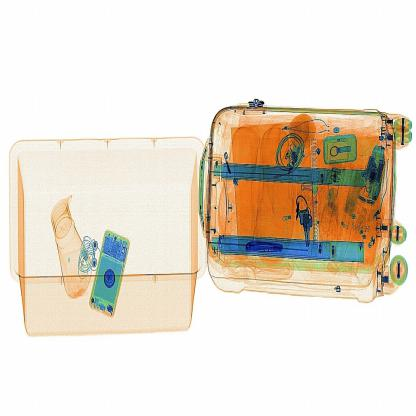knife: (241, 231, 290, 263)
